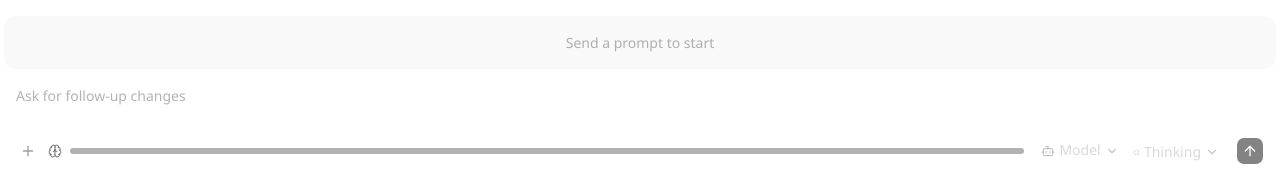
Test: ChatStream › a mixed draft lists only the prefix of the token at the caret
Step 1. Type "$a" into the text box → (640, 106), box x1=16 y1=85 x2=1264 y2=127
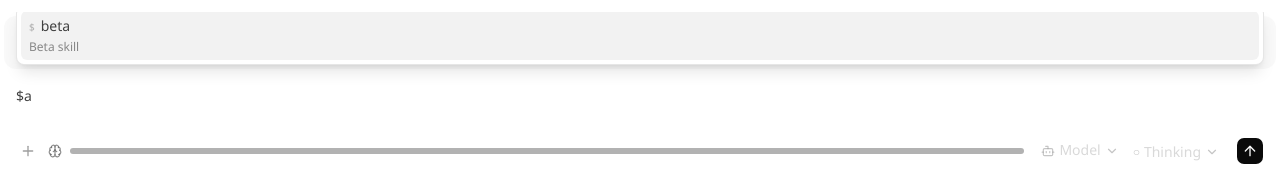
Check: the text "postgres" is not shown
Check: the text "beta" is shown, box x1=41 y1=15 x2=70 y2=36
Step 2. Replace the text in the text box with "$a #pos" → (640, 106), box x1=16 y1=85 x2=1264 y2=127
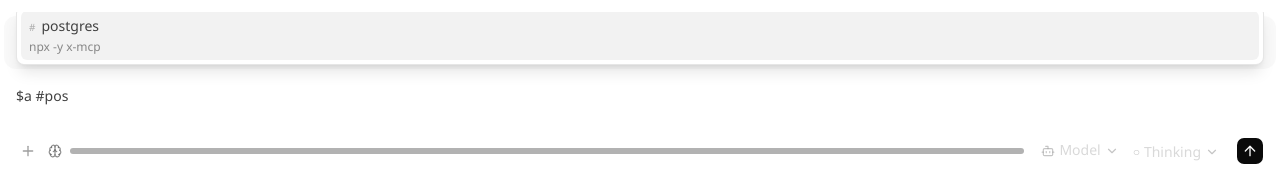
Check: the text "postgres" is shown, box x1=42 y1=15 x2=99 y2=36
Check: the button "beta" is gone
